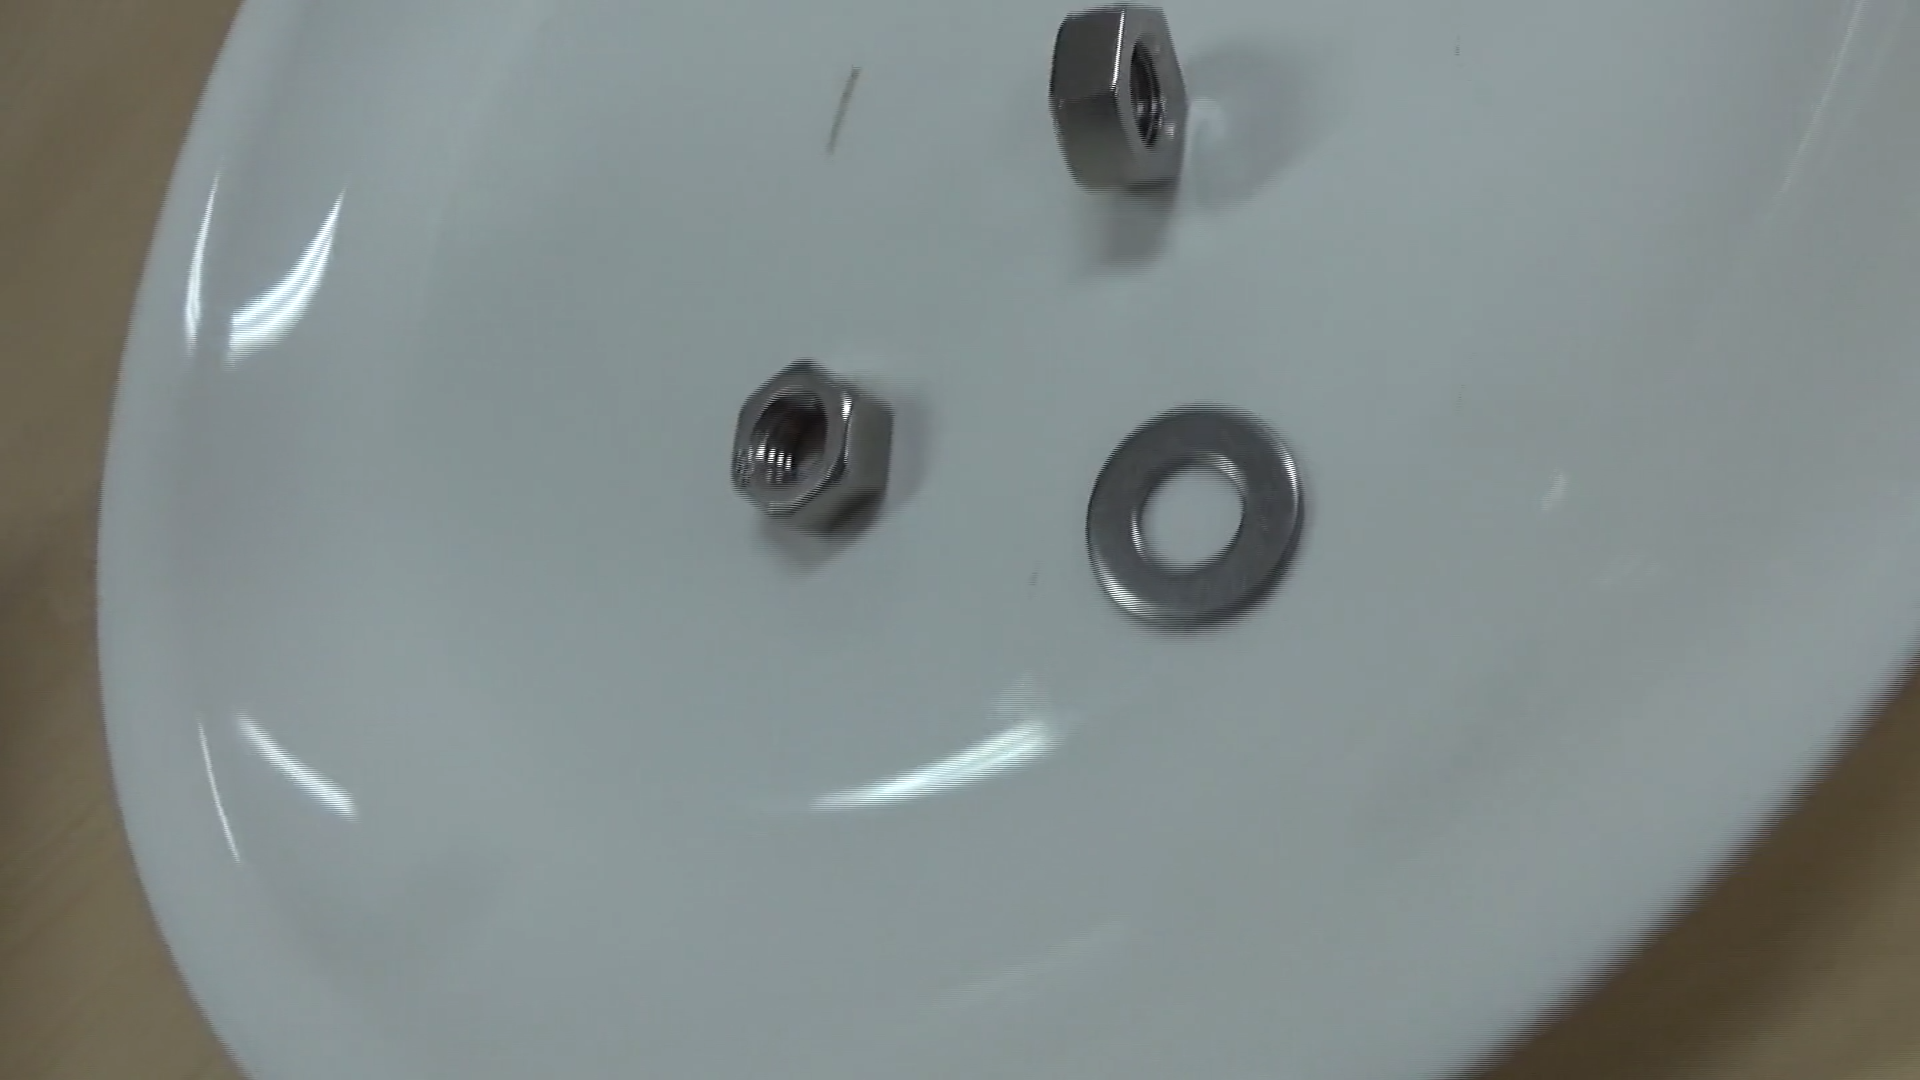nut: (1009, 1, 1236, 241), (703, 324, 914, 553)
washer: (1052, 371, 1323, 653)
